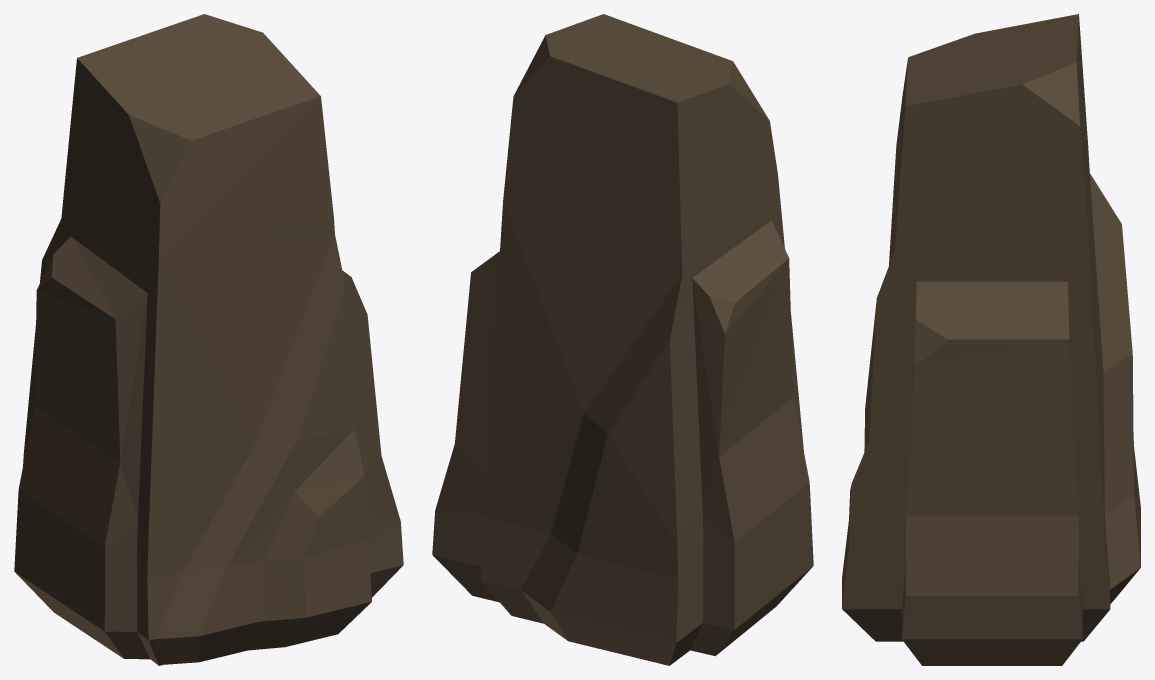
Rendered from SM_Env_Rock_010.fbx.
3 views of the same model, side by side, from view 1: azimuth 30°, elevation 25°; view 2: azimuth 150°, elevation 25°; view 3: azimuth 270°, elevation 25° (orthographic).
Parts seen in each view (by area): view 1: SM_Env_Rock_010; view 2: SM_Env_Rock_010; view 3: SM_Env_Rock_010.
Part boxes in pixels (x1,y1,x2,y2): SM_Env_Rock_010: (14, 14, 403, 665); SM_Env_Rock_010: (432, 14, 813, 665); SM_Env_Rock_010: (842, 14, 1140, 665).
Bounding box in the file's own units: 0.00779 × 0.0139 × 0.00667.
1 material, 1 textured.
